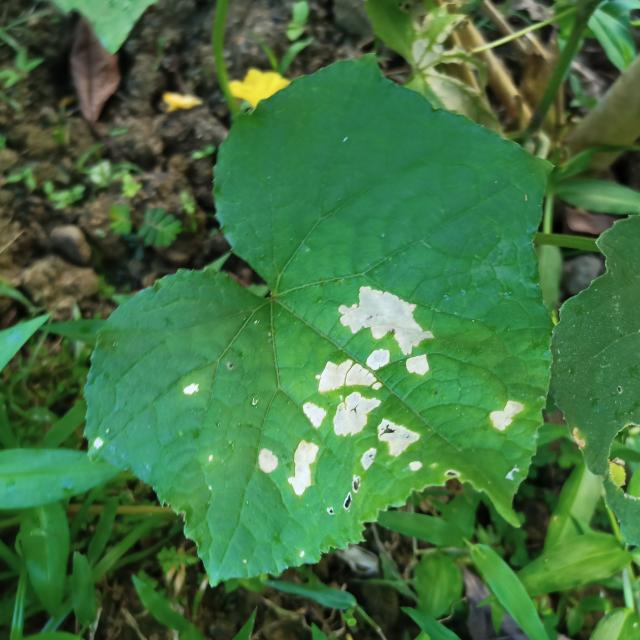disease_cucumber: (254, 283, 436, 500), (481, 392, 525, 444), (178, 379, 201, 402)
